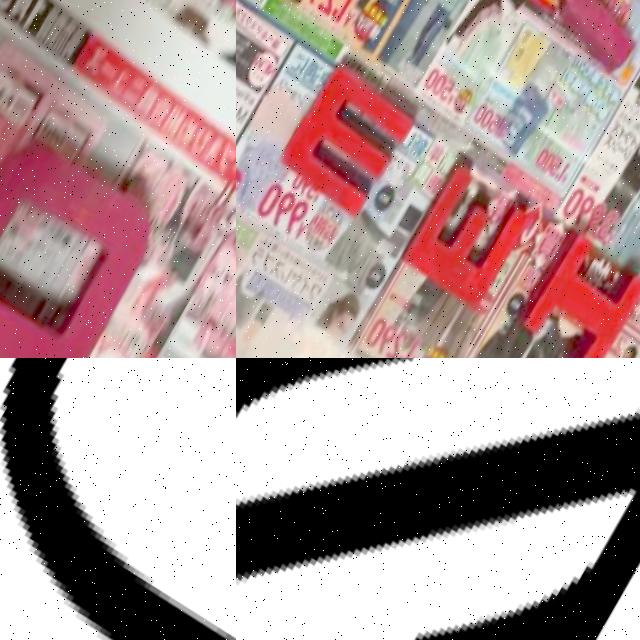C: (0, 358, 236, 640)
E: (392, 142, 537, 306)
I: (506, 211, 640, 358)
O: (0, 110, 167, 358)
U: (544, 0, 640, 74)
W: (272, 49, 419, 217)
Z: (236, 358, 640, 640)
